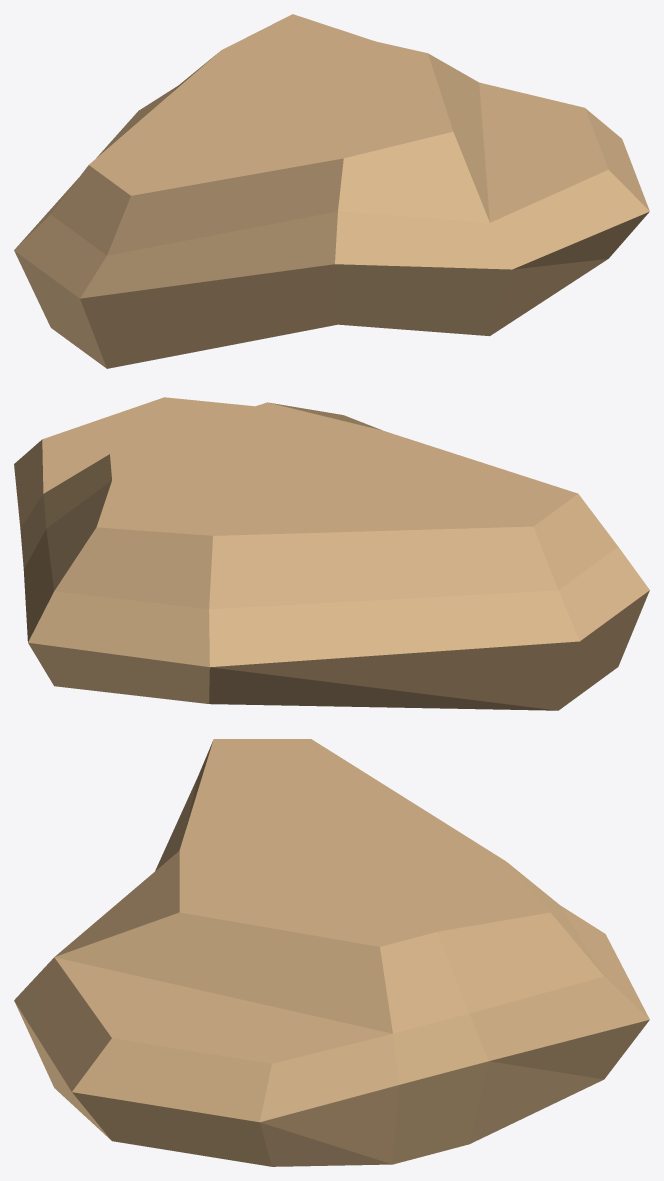
The model's file is 02 Big_Stone.FBX.
The picture shows the model from 3 angles, top to bottom: view 1: azimuth 30°, elevation 25°; view 2: azimuth 150°, elevation 25°; view 3: azimuth 270°, elevation 25°; orthographic projection. The views are drawn at different scales.
Parts seen in each view (by area): view 1: Stone_lit_007; view 2: Stone_lit_007; view 3: Stone_lit_007.
Part boxes in pixels (<box>): Stone_lit_007: <box>14,14,649,368</box>; Stone_lit_007: <box>14,397,649,710</box>; Stone_lit_007: <box>14,739,649,1166</box>.
Size of the model in its own units: 4554 by 1225 by 3807.
